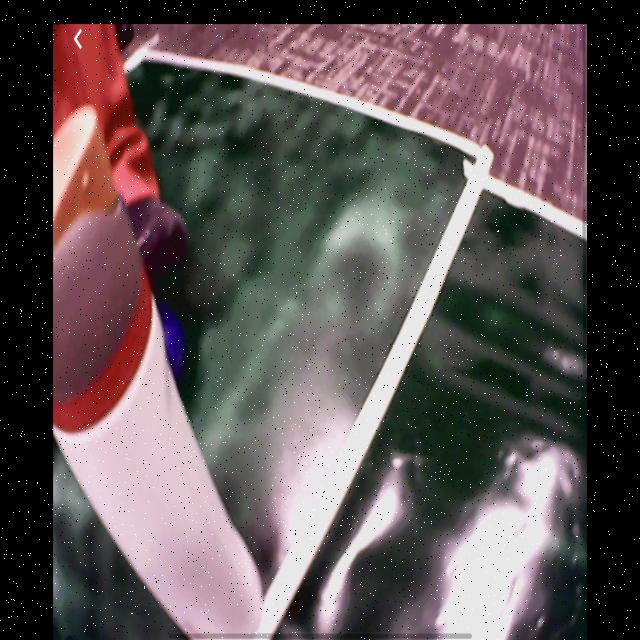ball: (153, 305, 184, 377)
